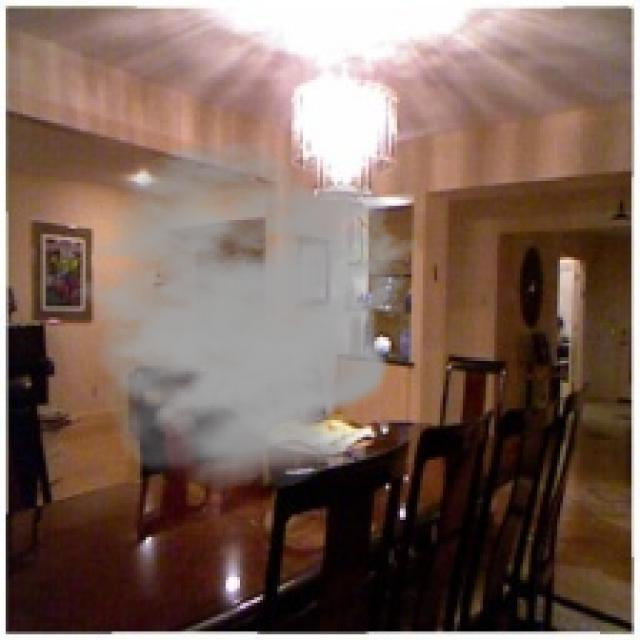smoke: (51, 140, 420, 491)
